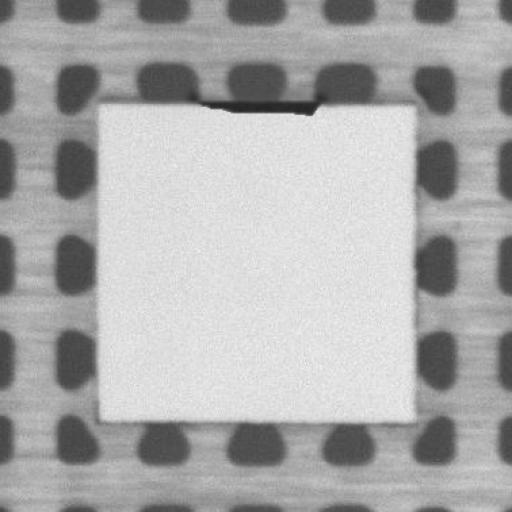DIE_BROKEN: (191, 96, 322, 113)
